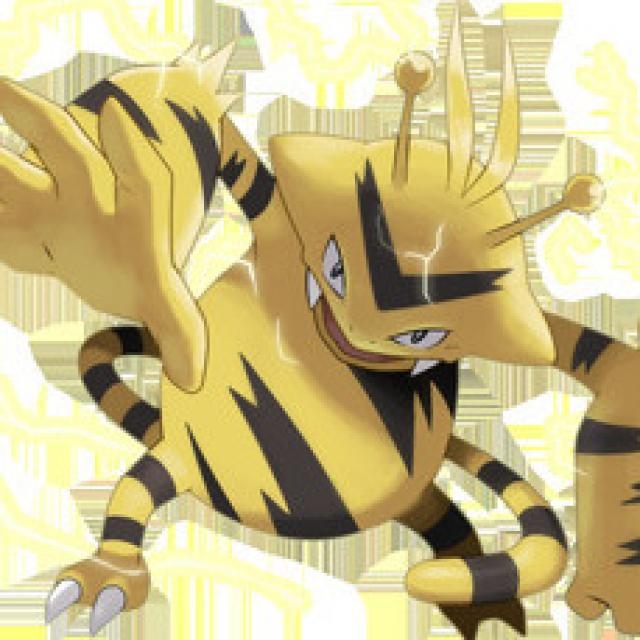Electabuzz: (70, 120, 556, 577)
